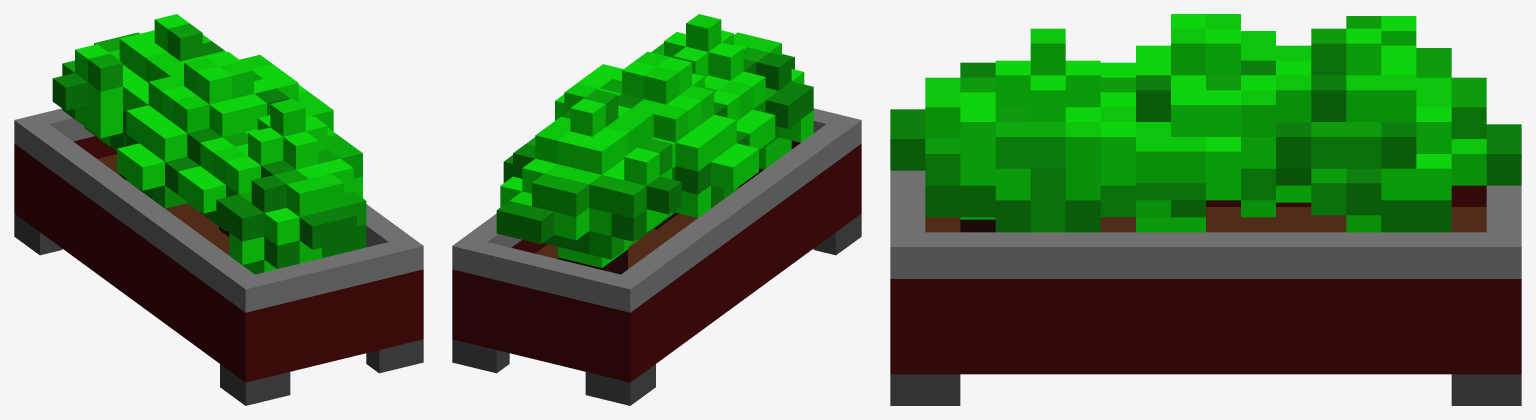
The model's file is hwadan.obj.
3 views of the same model, side by side, from view 1: azimuth 30°, elevation 25°; view 2: azimuth 150°, elevation 25°; view 3: azimuth 270°, elevation 25° (orthographic). The views are drawn at different scales.
Parts seen in each view (by area): view 1: hwadan; view 2: hwadan; view 3: hwadan.
Part boxes in pixels (x1,y1,x2,y2): hwadan: (14, 14, 423, 405); hwadan: (452, 14, 861, 405); hwadan: (890, 14, 1521, 405).
Bounding box in the file's own units: 8 × 10 × 18.
Materials: 1 (1 with a texture image).
